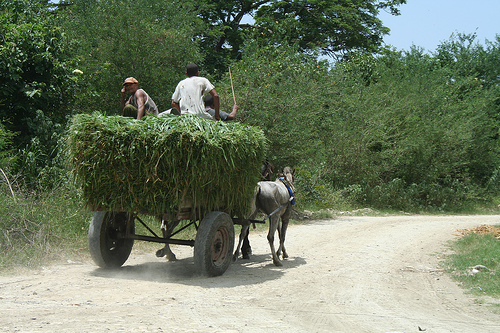horse: (242, 163, 296, 268)
